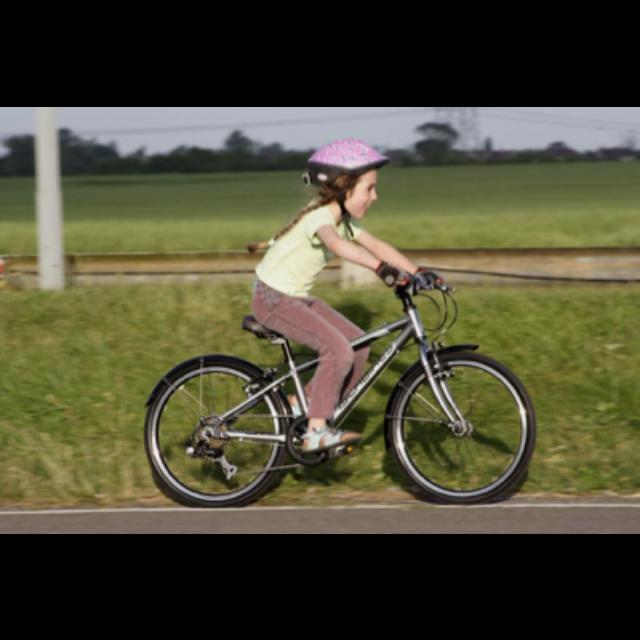With Helmet: (302, 128, 393, 226)
